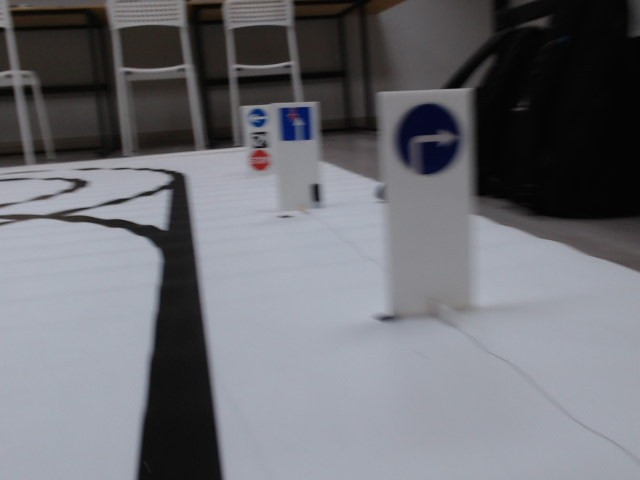Right: (390, 102, 463, 177)
Stop: (248, 149, 272, 172)
priority_movement: (278, 105, 315, 143)
